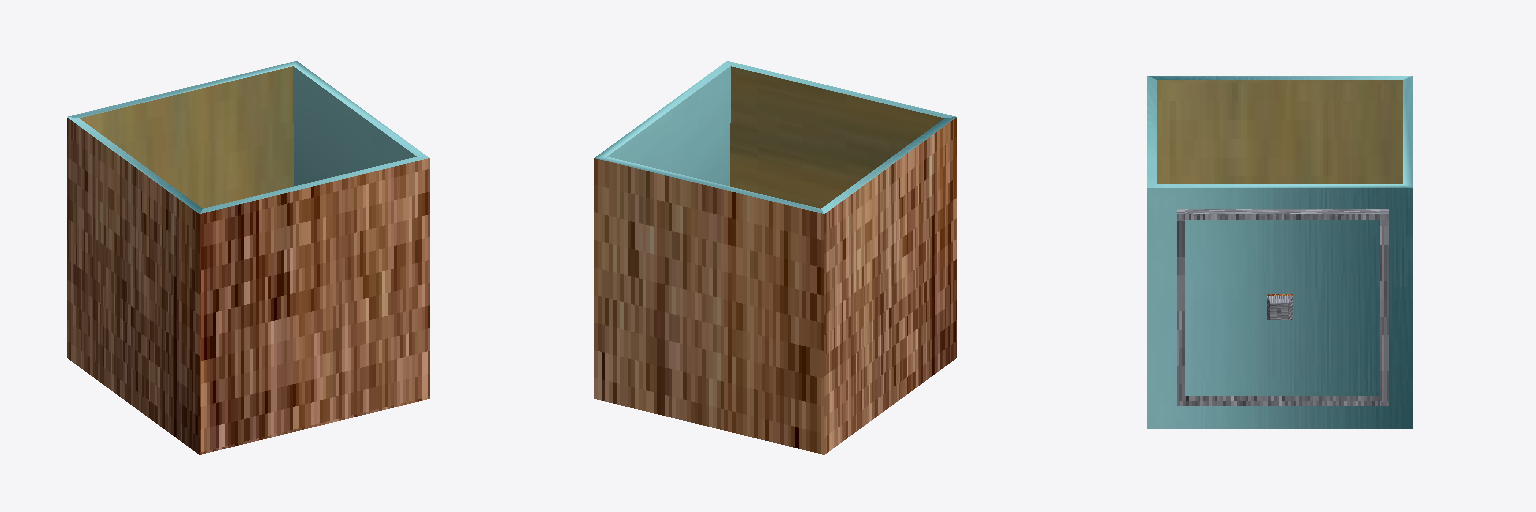
3 views of the same model, side by side, from view 1: azimuth 30°, elevation 25°; view 2: azimuth 150°, elevation 25°; view 3: azimuth 270°, elevation 25° (orthographic).
Visible parts, largest first — view 1: Plane.000_Plane.002; view 2: Plane.000_Plane.002; view 3: Plane.000_Plane.002.
Part boxes in pixels (bbox=[...]): Plane.000_Plane.002: bbox=[67, 61, 429, 454]; Plane.000_Plane.002: bbox=[594, 61, 956, 454]; Plane.000_Plane.002: bbox=[1147, 76, 1412, 428].
Bounding box in the file's own units: 6.03 × 5.64 × 5.64.
Materials: 1 (1 with a texture image).